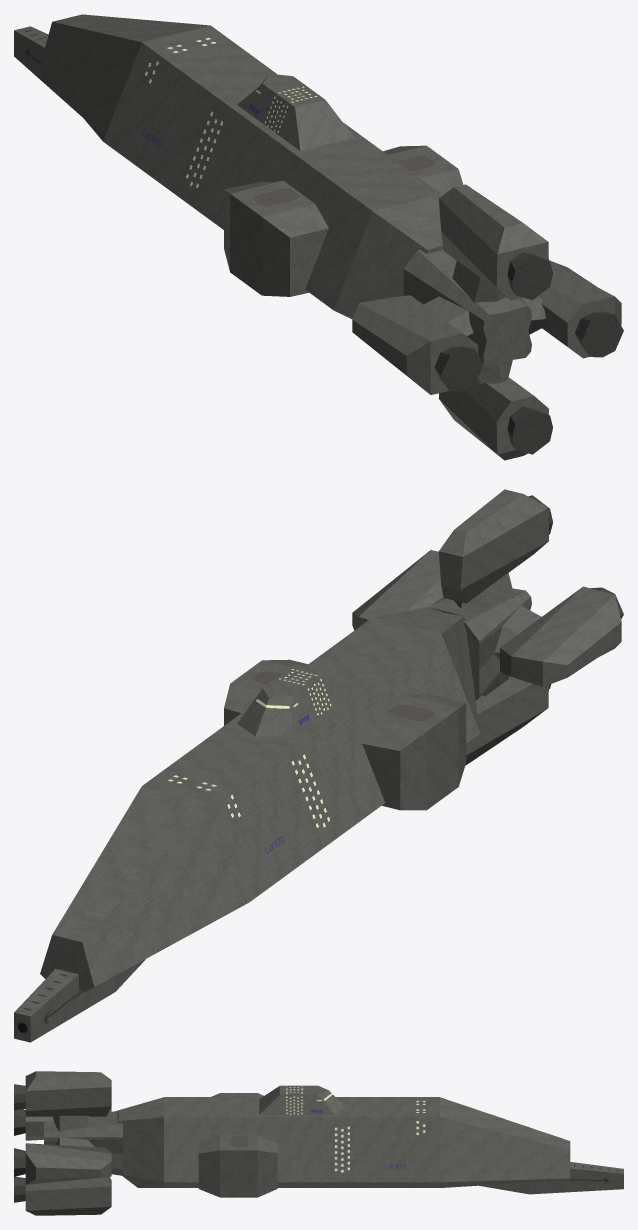
The model's file is wato-spaceship.glb.
3 renders of one model, top to bottom at view 1: azimuth 30°, elevation 25°; view 2: azimuth 150°, elevation 25°; view 3: azimuth 270°, elevation 25°, orthographic. The views are drawn at different scales.
Parts seen in each view (by area): view 1: Cube, SidePod.001, EnginePod, EnginePod.003, EngineMiddleBlock, TopBit, EnginePod.001, EnginePod.002, SidePod, EngineBell.003, EngineBell.002, EngineBell (+4 smaller); view 2: Cube, SidePod.001, EnginePod, EnginePod.003, TopBit, FrontBit, EnginePod.001, EngineMiddleBlock, EnginePod.002, SidePod, EnginePylon, EnginePylon.003; view 3: Cube, SidePod, EnginePod, EnginePod.002, EnginePod.001, FrontBit, TopBit, EngineMiddleBlock, EnginePylon, EnginePod.003, EngineBell.002, EngineBell (+3 smaller).
Boxes of the visible parts, x1,y1,x2,y2 form: Cube: (40, 14, 443, 319); SidePod.001: (224, 180, 328, 296); EnginePod: (438, 184, 548, 300); EnginePod.003: (352, 295, 478, 394); EngineMiddleBlock: (403, 249, 531, 366); TopBit: (237, 73, 354, 150); EnginePod.001: (438, 377, 548, 460); EnginePod.002: (538, 260, 621, 358); SidePod: (383, 145, 463, 195); EngineBell.003: (434, 346, 483, 391); EngineBell.002: (575, 312, 623, 357); EngineBell: (507, 252, 552, 300); Cube: (40, 607, 479, 991); SidePod.001: (362, 693, 466, 810); EnginePod: (438, 489, 548, 603); EnginePod.003: (500, 586, 621, 686); TopBit: (237, 664, 354, 736); FrontBit: (14, 959, 145, 1042); EnginePod.001: (465, 676, 548, 765); EngineMiddleBlock: (427, 588, 531, 700); EnginePod.002: (352, 550, 443, 630); SidePod: (224, 659, 307, 725); EnginePylon: (454, 572, 514, 608); EnginePylon.003: (494, 606, 541, 659); Cube: (117, 1097, 570, 1187); SidePod: (198, 1135, 277, 1197); EnginePod: (25, 1071, 111, 1116); EnginePod.002: (25, 1143, 111, 1184); EnginePod.001: (25, 1176, 111, 1215); FrontBit: (479, 1162, 623, 1194); TopBit: (259, 1085, 344, 1114); EngineMiddleBlock: (44, 1111, 122, 1175); EnginePylon: (53, 1115, 99, 1131); EnginePod.003: (25, 1107, 111, 1140); EngineBell.002: (14, 1148, 25, 1176); EngineBell: (14, 1084, 25, 1110).
Size of the model in its own units: 3.76 by 3.88 by 15.43.
Materials: 7 (7 with a texture image).
